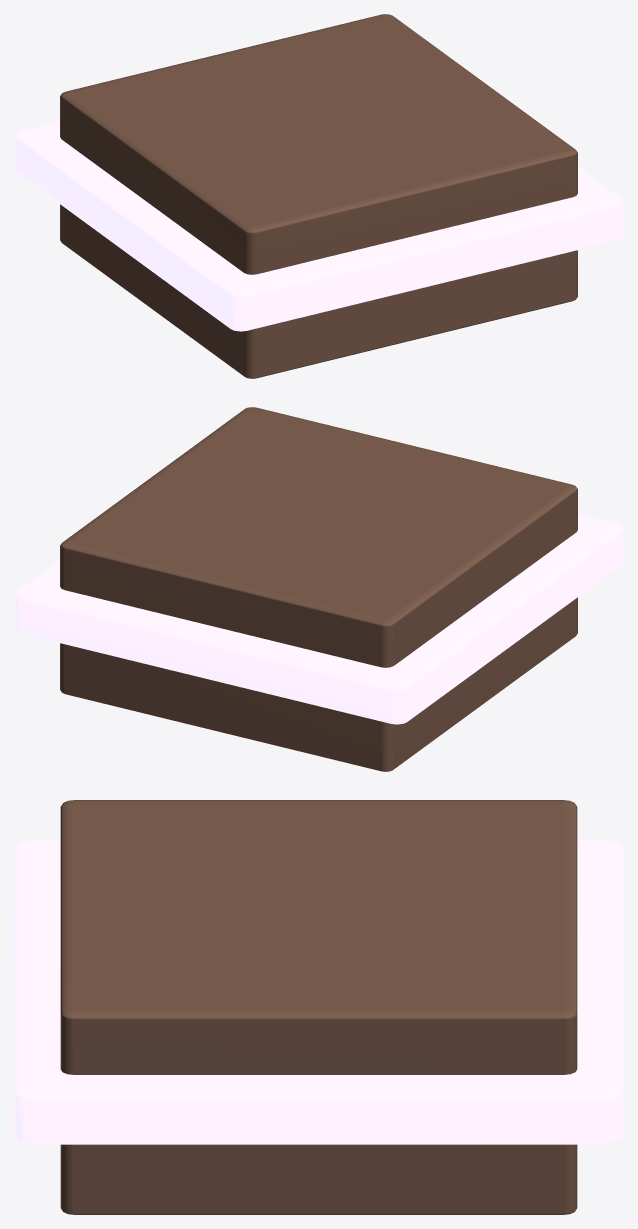
The model's file is BM_Platform_Ice.fbx.
The picture shows the model from 3 angles, top to bottom: view 1: azimuth 30°, elevation 25°; view 2: azimuth 150°, elevation 25°; view 3: azimuth 270°, elevation 25°; orthographic projection. The views are drawn at different scales.
Visible parts, largest first — view 1: BM_Platform_Ice, BM_Platform_Emissive_Base_001; view 2: BM_Platform_Ice, BM_Platform_Emissive_Base_001; view 3: BM_Platform_Ice, BM_Platform_Emissive_Base_001.
Boxes of the visible parts, x1,y1,x2,y2 form: BM_Platform_Ice: (60,14,577,378); BM_Platform_Emissive_Base_001: (14,121,623,331); BM_Platform_Ice: (60,407,577,771); BM_Platform_Emissive_Base_001: (14,514,623,724); BM_Platform_Ice: (60,800,577,1214); BM_Platform_Emissive_Base_001: (14,840,623,1144).
Bounding box in the file's own units: 370 × 135 × 370.
